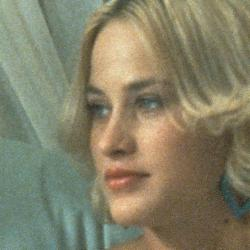face: (47, 1, 246, 234)
